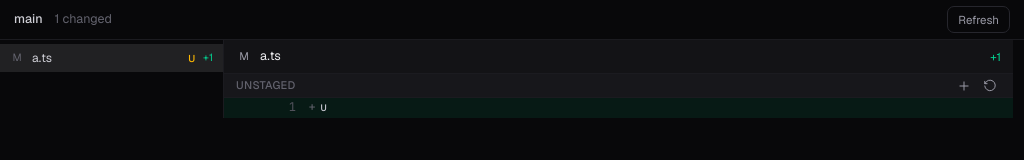
Test: DiffView › shows an inline error when an action fails
Expected: the element with test id "diff-scroll" is shown, x1=224 y1=40 x2=1023 y2=118
Click the button named "Stage".
click(964, 86)  # box x1=953 y1=74 x2=975 y2=96
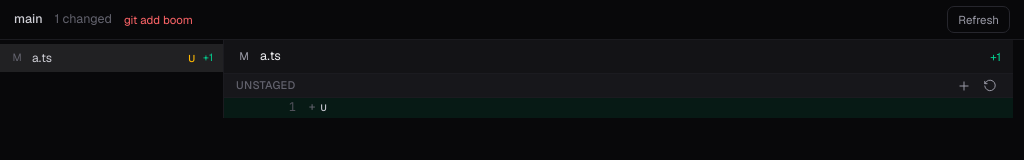
Now the text with test id "diff-action-error" reads "git add boom", box x1=124 y1=12 x2=193 y2=27
